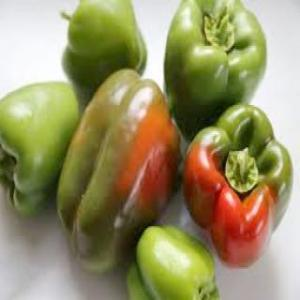bell_pepper: (50, 62, 192, 280), (186, 94, 294, 278), (156, 0, 272, 142), (1, 73, 81, 225), (53, 0, 150, 100), (124, 220, 224, 298)
